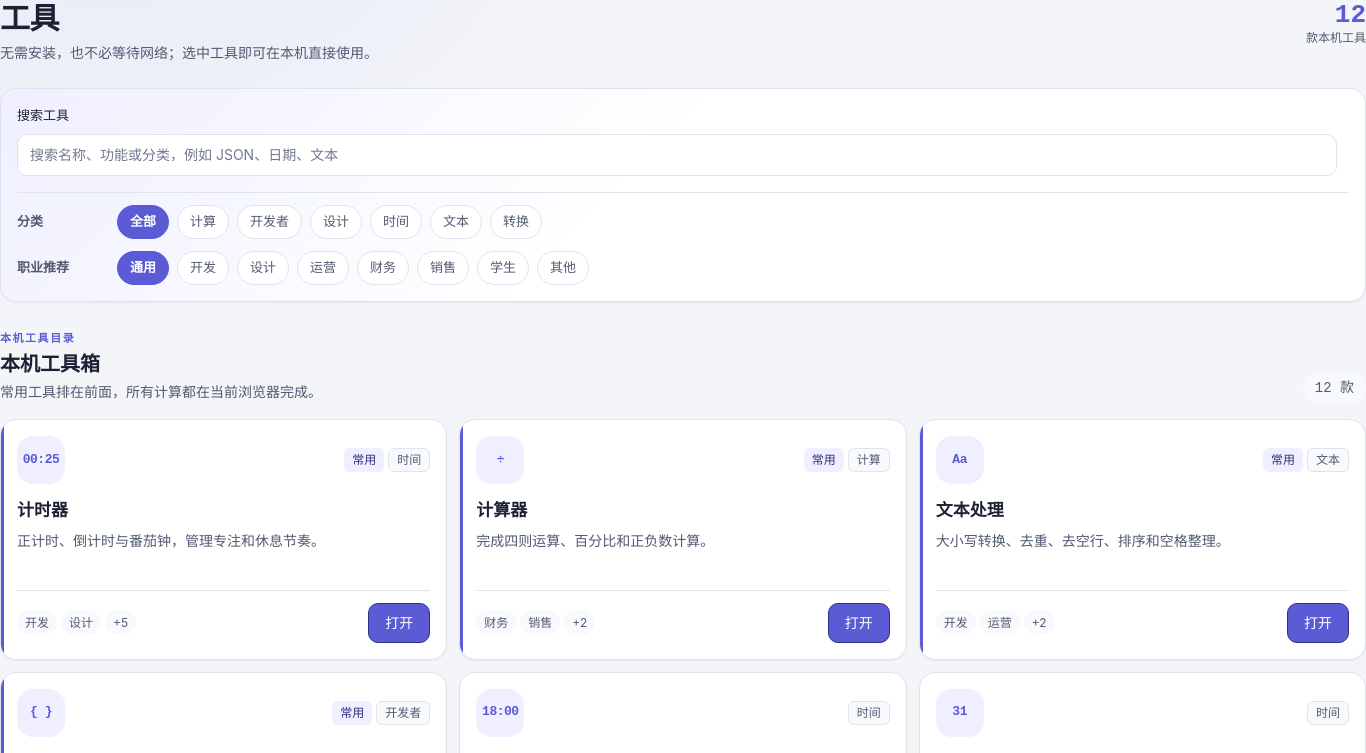
Test: ToolsPage 本机工具箱 › 无匹配时显示清晰空状态，并可恢复全部工具
The image size is (1366, 753).
Type "不存在的工具" into the search field labelled "搜索工具".
click(677, 155); type("不存在的工具")  # box x1=17 y1=134 x2=1337 y2=176
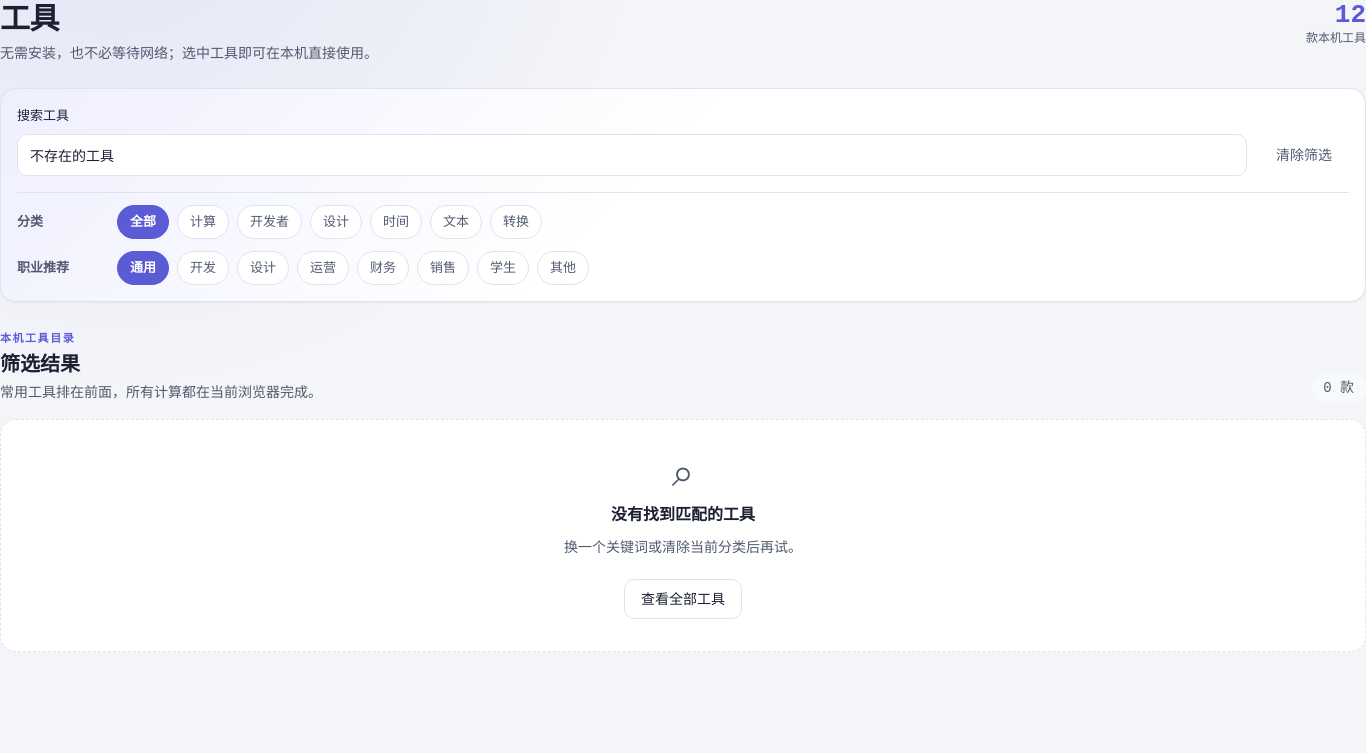
Expected: the element with test id "tools-empty" shows "没有找到匹配的工具", x1=611 y1=504 x2=755 y2=524
Click the button "查看全部工具".
click(683, 599)  # box x1=624 y1=579 x2=742 y2=619
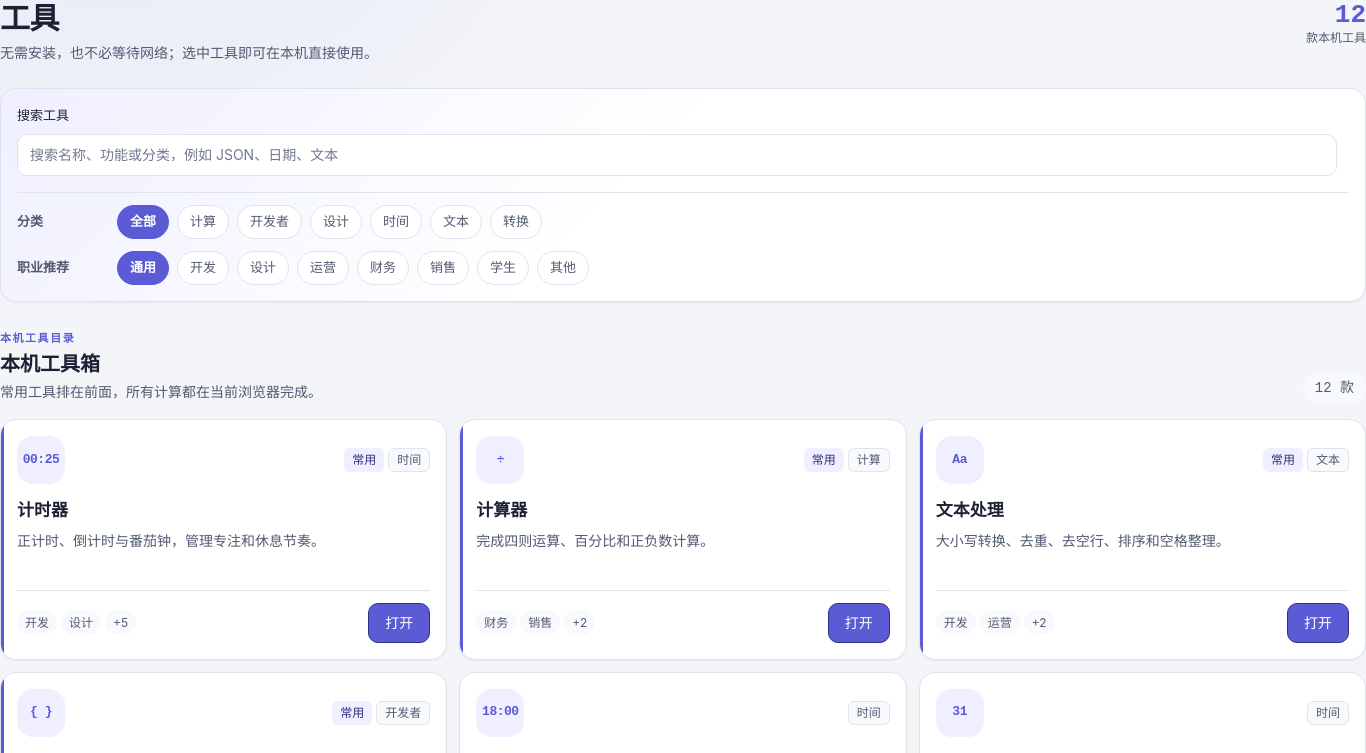
Expected: the heading "计算器" is shown, x1=476 y1=500 x2=527 y2=520
